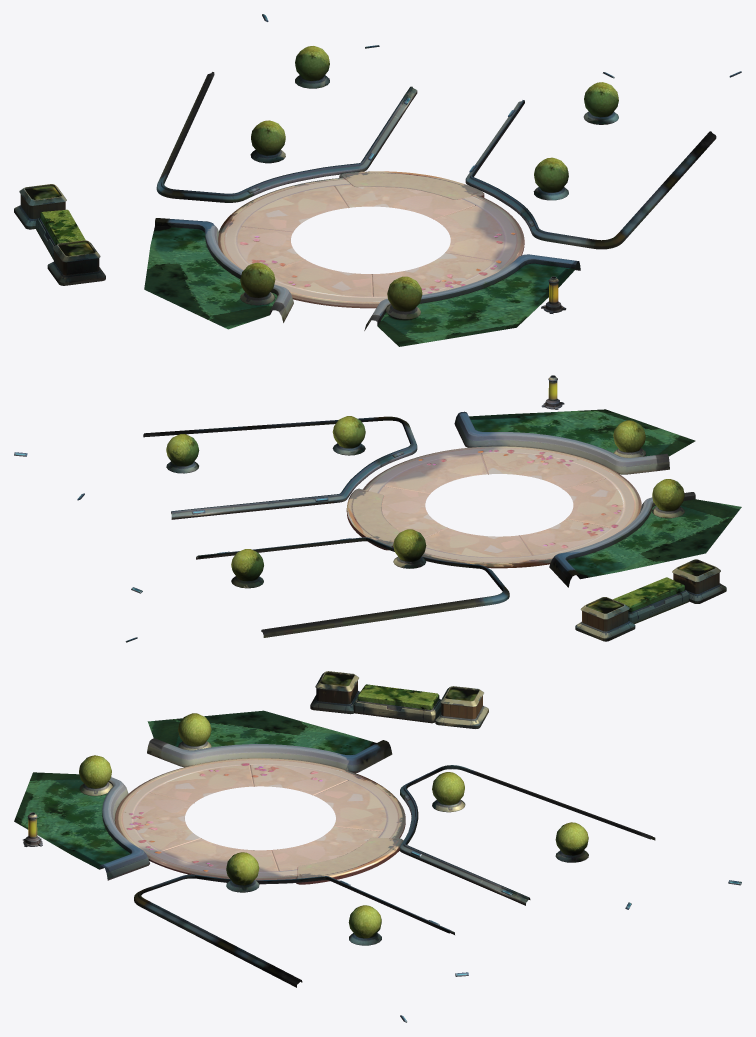
File: pref_sm_garden_props_vray_011_lv2.fbx
3 views of the same model, one above another, from view 1: azimuth 30°, elevation 25°; view 2: azimuth 150°, elevation 25°; view 3: azimuth 270°, elevation 25° (orthographic). The views are drawn at different scales.
Parts seen in each view (by area): view 1: pref_sm_garden_props_vray_011_lv2; view 2: pref_sm_garden_props_vray_011_lv2; view 3: pref_sm_garden_props_vray_011_lv2.
Part boxes in pixels (box(x1,y1,x2,y2)): pref_sm_garden_props_vray_011_lv2: box(14, 14, 741, 346); pref_sm_garden_props_vray_011_lv2: box(14, 375, 741, 642); pref_sm_garden_props_vray_011_lv2: box(14, 671, 741, 1022).
Bounding box in the file's own units: 31.27 × 2.09 × 28.76.
